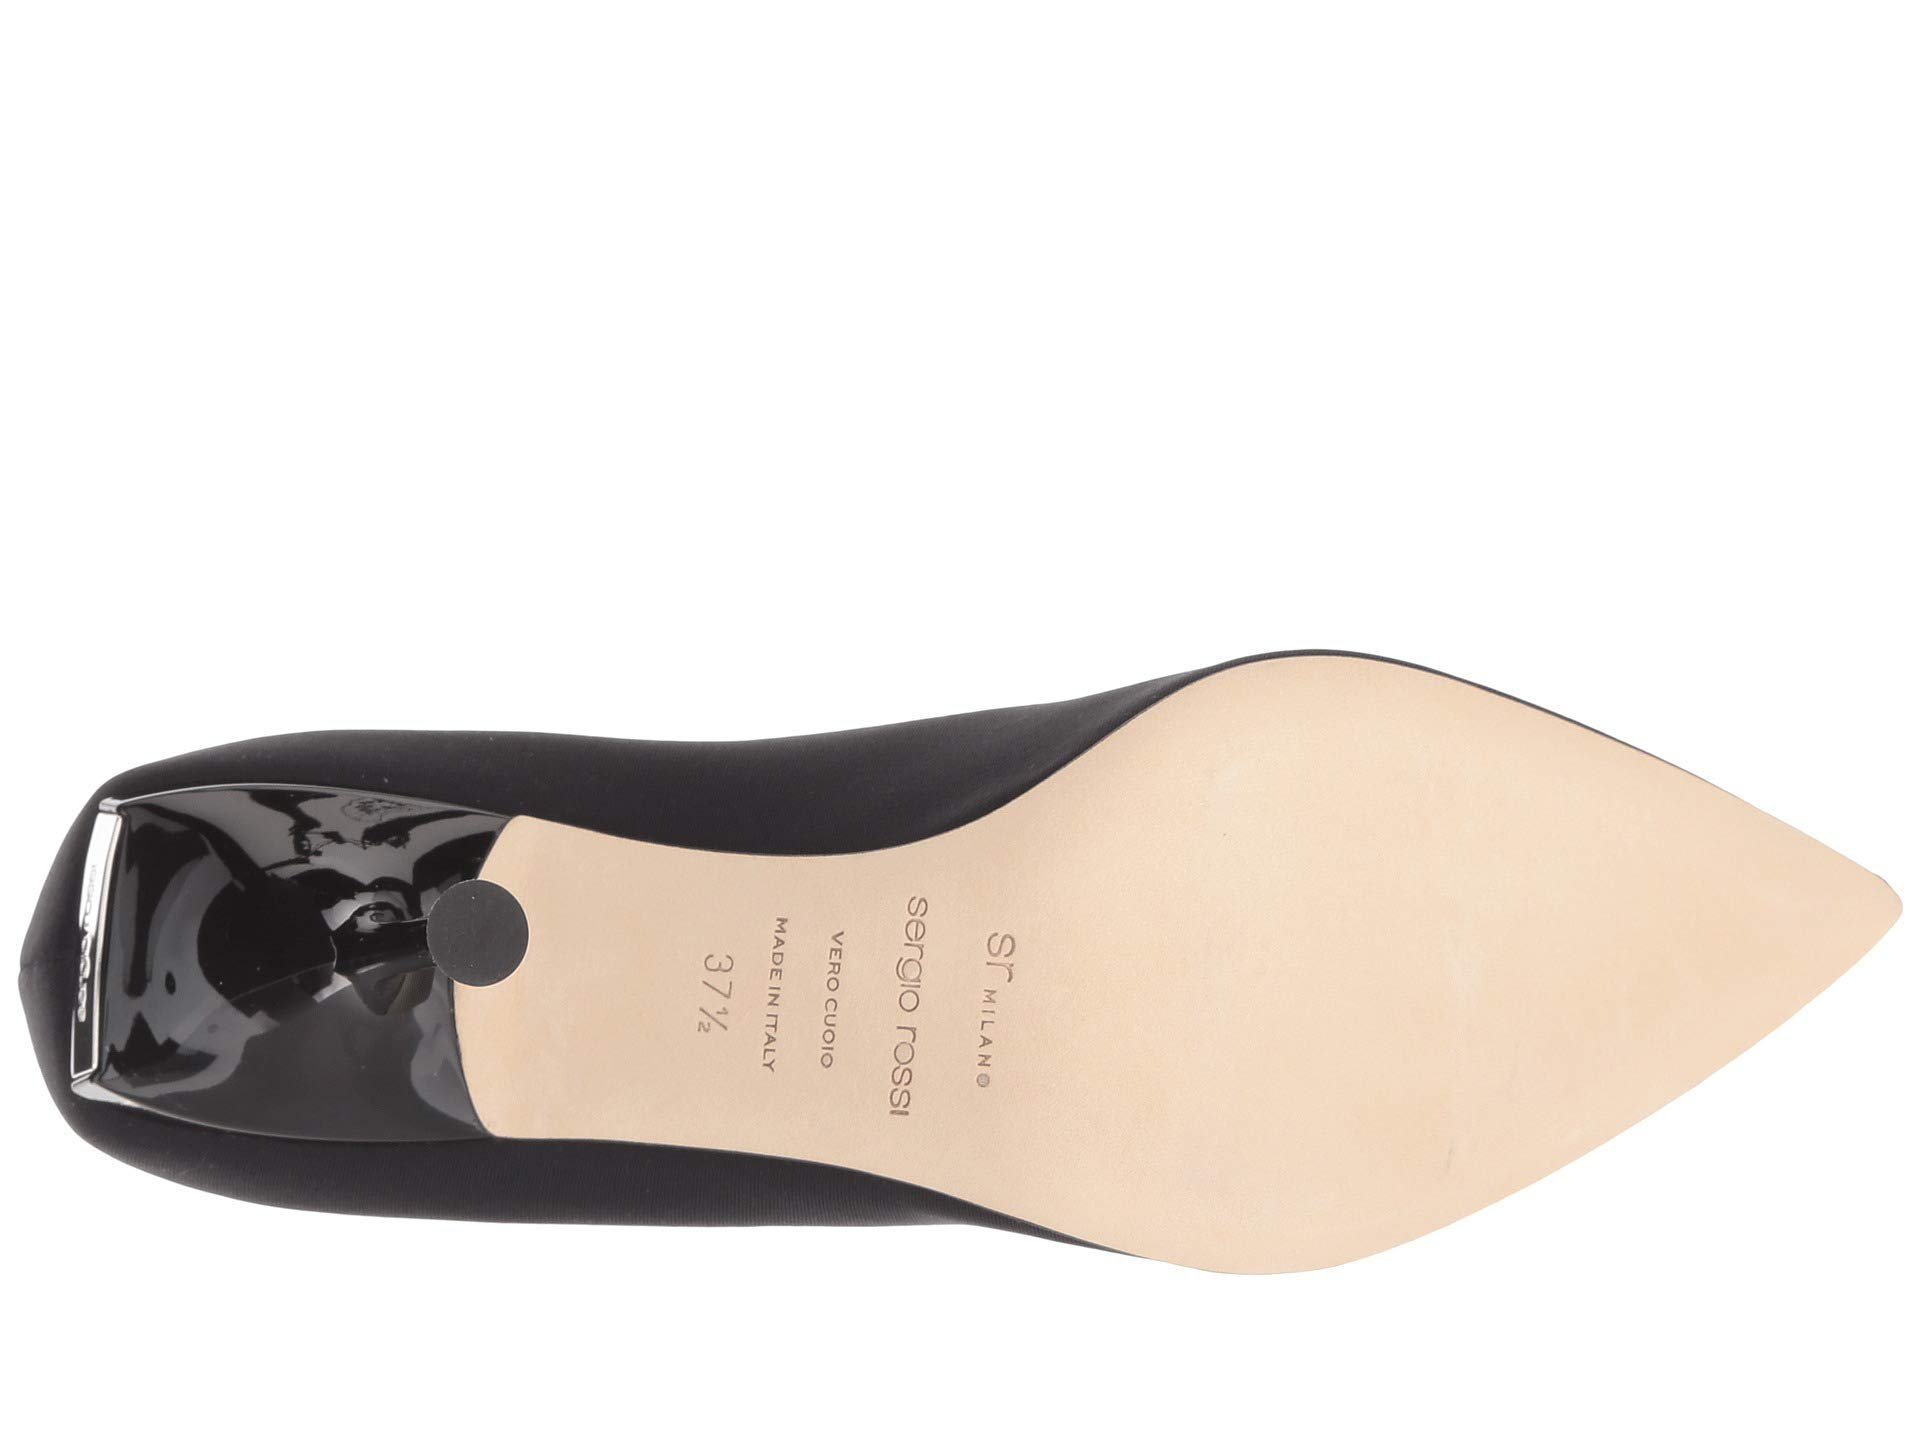circle: (416, 871, 540, 994)
exclude: (550, 703, 1036, 1283), (30, 737, 348, 1233)
